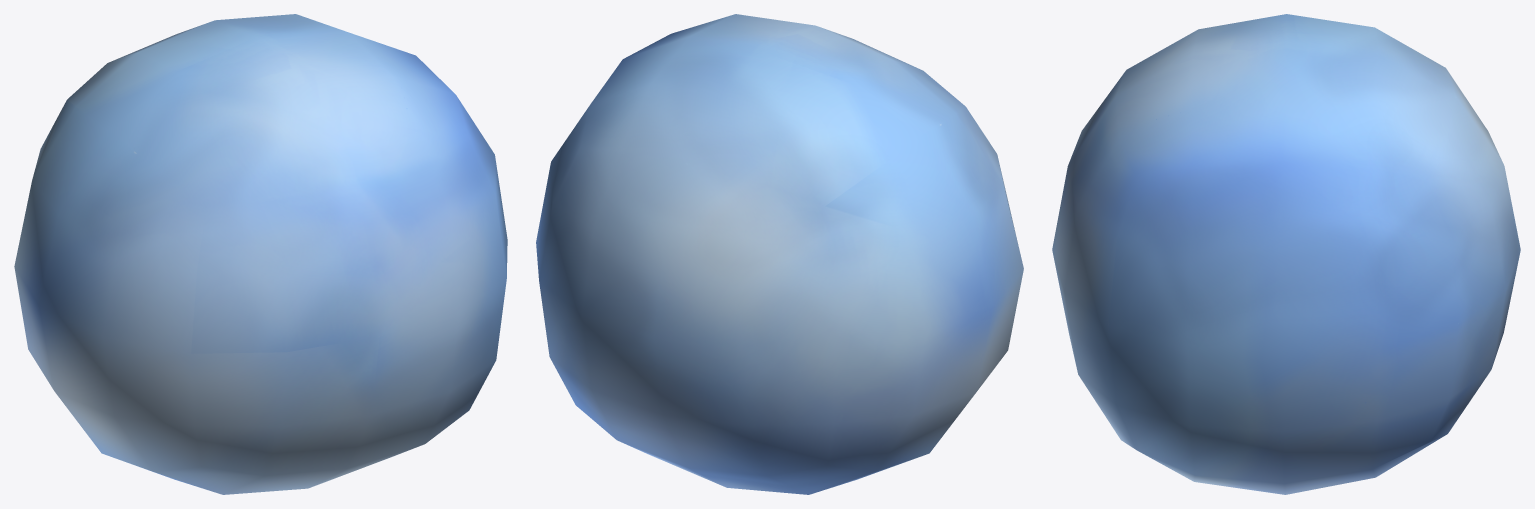
The model's file is snowball (1).fbx.
The picture shows the model from 3 angles, left to right: view 1: azimuth 30°, elevation 25°; view 2: azimuth 150°, elevation 25°; view 3: azimuth 270°, elevation 25°; orthographic projection.
Parts seen in each view (by area): view 1: Cube; view 2: Cube; view 3: Cube.
Part boxes in pixels (bbox=[...]): Cube: bbox=[14, 14, 507, 494]; Cube: bbox=[536, 14, 1023, 494]; Cube: bbox=[1052, 14, 1520, 494].
Bounding box in the file's own units: 40.36 × 42.59 × 40.78.
Materials: 1 (1 with a texture image).
